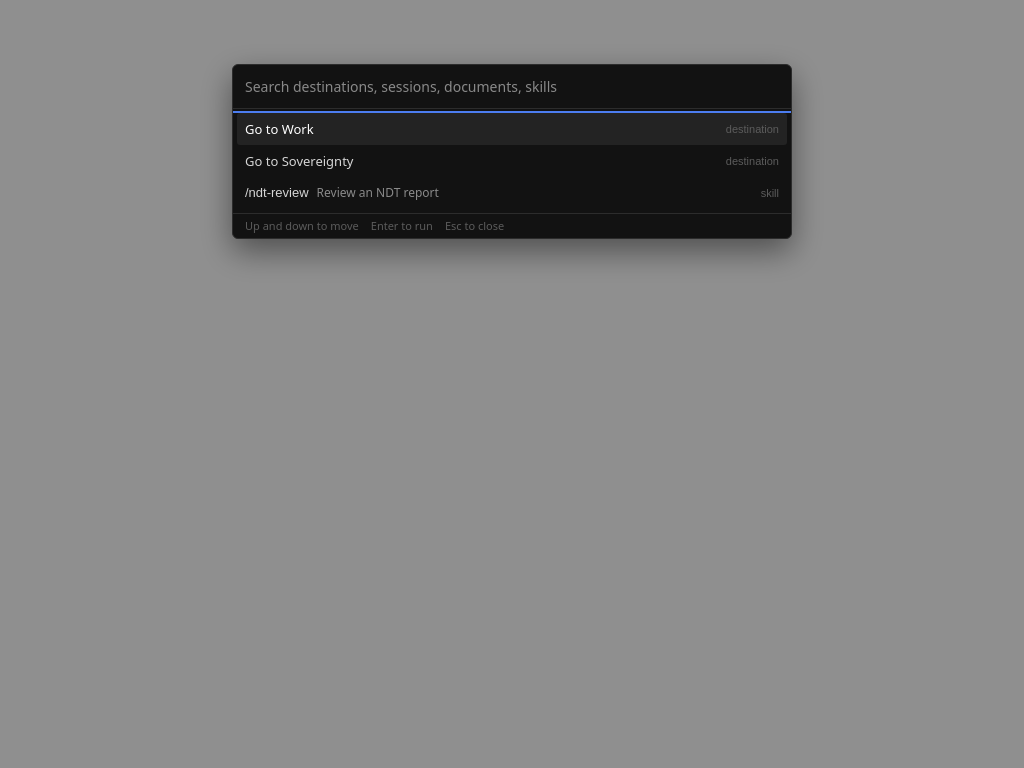
it: CommandPalette › names the next action when nothing matches
Type "zzzz" into the dropdown.
click(512, 87); type("zzzz")  # box [233,65,791,109]
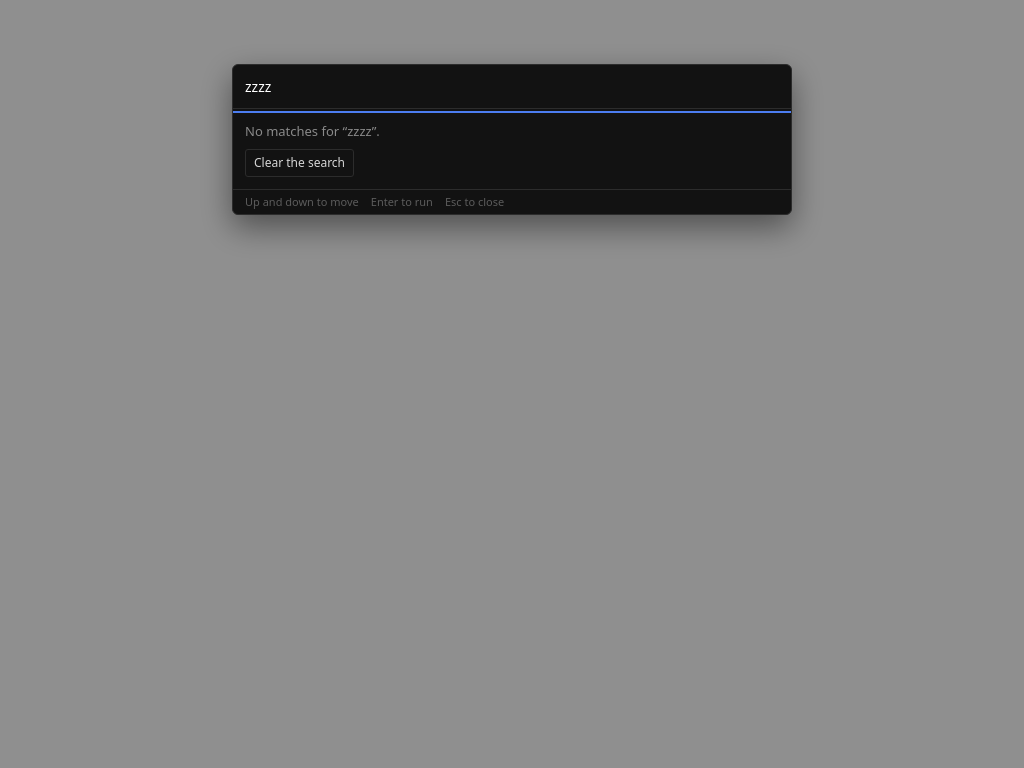
Result: the text "No matches for “zzzz”." is shown at [245,121,380,141]
Result: the button "Clear the search" is shown at [245,149,354,177]
